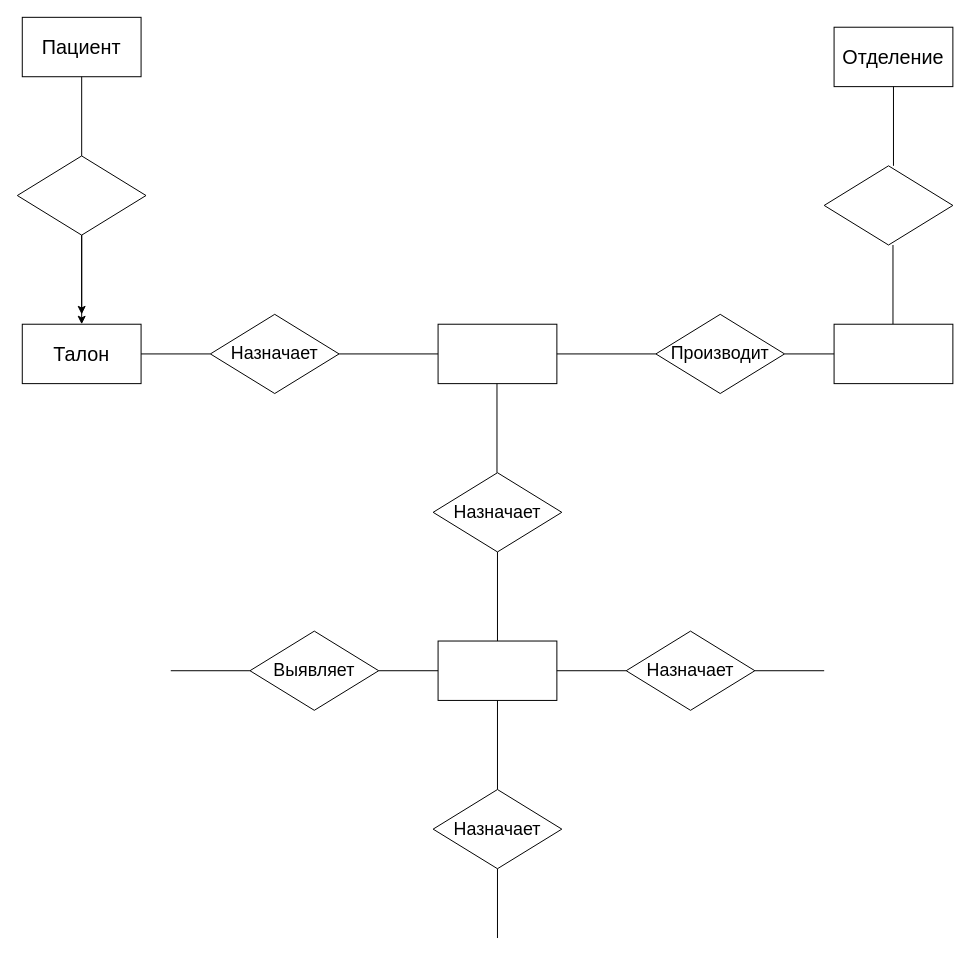
The diagram is 970 pixels wide and 956 high, and some of its shapes have lost their labels. The shapes that lost their labels are listed below. From the top down, each one's centre as x and y in pixels, then its label:
At [81,195]: "Берёт".
At [888,205]: "Имеет".
At [497,353]: "Приём".
At [893,353]: "Врач".
At [497,670]: "Отчёт".
